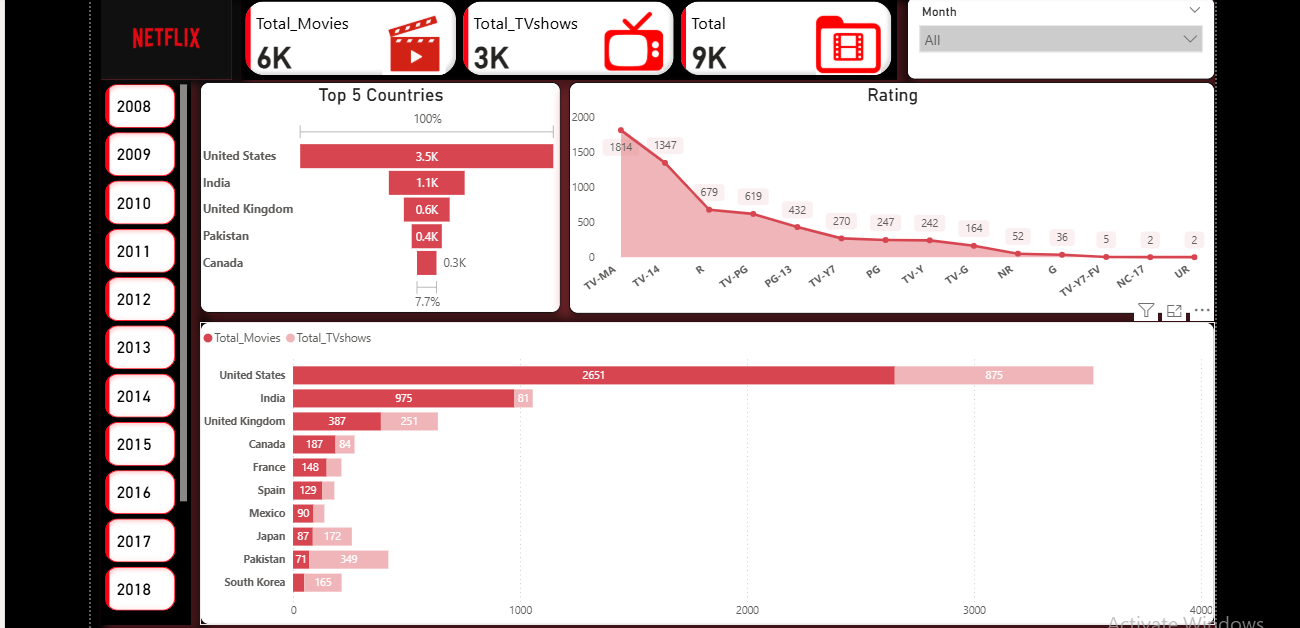

The page's visual inventory and layout, read from the dashboard file:
{"tool":"powerbi","page":{"name":"Page 2","canvas":[1280,720],"ordinal":1},"visuals":[{"type":"shape","box":[0,0,170.8,94.3],"z":0},{"type":"image","box":[11.5,0,149.2,94.3],"z":1000},{"type":"shape","box":[0,114.7,123.7,605.6],"z":2000},{"type":"advancedSlicerVisual","fields":{"Values":["netflix1.date_added.Variation.Date Hierarchy.Year"]},"box":[11.5,94.3,103.3,620.9],"z":3000},{"type":"cardVisual","fields":{"Data":["netflix1.Total_Movies","netflix1.Total_TVshows","netflix1.Total_Movies_shows"]},"box":[170.8,0,747.1,94.3],"z":4000},{"type":"slicer","fields":{"Values":["netflix1.date_added.Variation.Date Hierarchy.Month"]},"box":[929.4,0,350.6,94.3],"z":5000},{"type":"funnel","title":"Top 5 Countries","fields":{"Y":["netflix1.Total_Movies_shows"],"Category":["netflix1.country"]},"box":[123.7,96.9,410.5,262.6],"z":7001},{"type":"lineChart","title":"Rating","fields":{"Category":["netflix1.rating"],"Y":["netflix1.Total_Movies_shows"]},"box":[544.4,96.9,735.6,263.9],"z":7002},{"type":"barChart","title":"Top 5 Countries","fields":{"Category":["netflix1.country"],"Y":["netflix1.Total_Movies","netflix1.Total_TVshows"]},"box":[123.7,369.7,1156.3,345.5],"z":7003}]}

Visuals, with their boxes on the page's 1280x720 design canvas (x1, y1, x2, y2). These are canvas units, not pixel positions in the 1300x628 screenshot, which may show the page scaled, cropped or inside an application window:
shape: [left=0, top=0, right=171, bottom=94]
image: [left=12, top=0, right=161, bottom=94]
shape: [left=0, top=115, right=124, bottom=720]
advancedSlicerVisual - netflix1.date_added.Variation.Date Hierarchy.Year: [left=12, top=94, right=115, bottom=715]
cardVisual - netflix1.Total_Movies x netflix1.Total_TVshows: [left=171, top=0, right=918, bottom=94]
slicer - netflix1.date_added.Variation.Date Hierarchy.Month: [left=929, top=0, right=1280, bottom=94]
"Top 5 Countries" funnel: [left=124, top=97, right=534, bottom=360]
"Rating" lineChart: [left=544, top=97, right=1280, bottom=361]
"Top 5 Countries" barChart: [left=124, top=370, right=1280, bottom=715]
